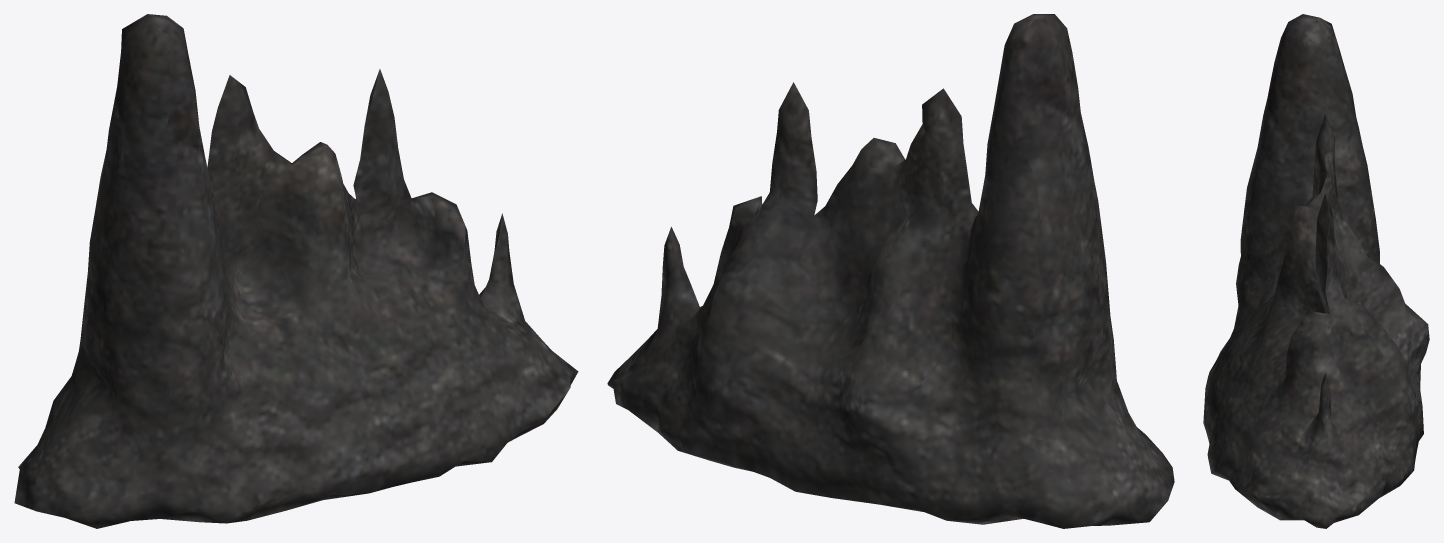
The model's file is CaveRockPack1_Low5.fbx.
3 views of the same model, side by side, from view 1: azimuth 30°, elevation 25°; view 2: azimuth 150°, elevation 25°; view 3: azimuth 270°, elevation 25° (orthographic). The views are drawn at different scales.
Visible parts, largest first — view 1: CaveRockPack1_Low5; view 2: CaveRockPack1_Low5; view 3: CaveRockPack1_Low5.
Boxes of the visible parts, x1,y1,x2,y2 form: CaveRockPack1_Low5: (14,14,578,528); CaveRockPack1_Low5: (607,14,1174,528); CaveRockPack1_Low5: (1203,14,1429,528).
Bounding box in the file's own units: 2185 × 1806 × 1025.
